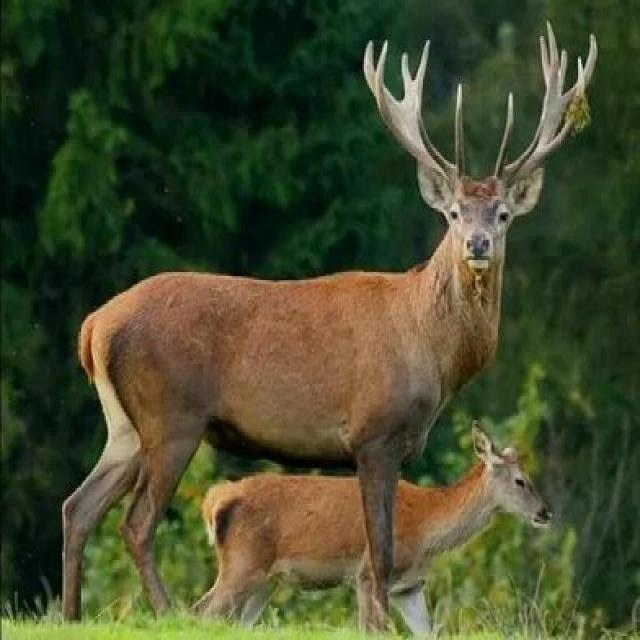deer: (110, 107, 556, 577), (236, 400, 560, 640)
